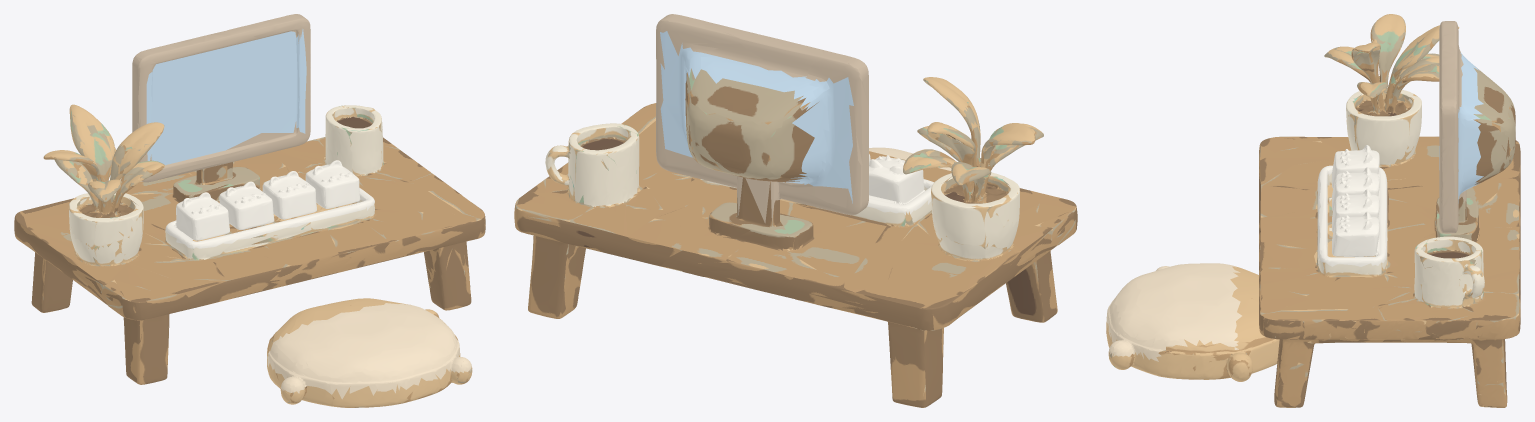
File: low-monitor-cat-keycap-workstation-noise-clean-v1.glb
The picture shows the model from 3 angles, left to right: view 1: azimuth 30°, elevation 25°; view 2: azimuth 150°, elevation 25°; view 3: azimuth 270°, elevation 25°; orthographic projection. The views are drawn at different scales.
Parts seen in each view (by area): view 1: low-monitor-cat-keycap-workstation-noise-clean-v1; view 2: low-monitor-cat-keycap-workstation-noise-clean-v1; view 3: low-monitor-cat-keycap-workstation-noise-clean-v1.
Boxes of the visible parts, bbox=[...] form: low-monitor-cat-keycap-workstation-noise-clean-v1: bbox=[14, 14, 485, 407]; low-monitor-cat-keycap-workstation-noise-clean-v1: bbox=[514, 14, 1077, 407]; low-monitor-cat-keycap-workstation-noise-clean-v1: bbox=[1106, 14, 1520, 407].
Bounding box in the file's own units: 1.9 × 1.21 × 1.7.
5 materials, 1 textured.
